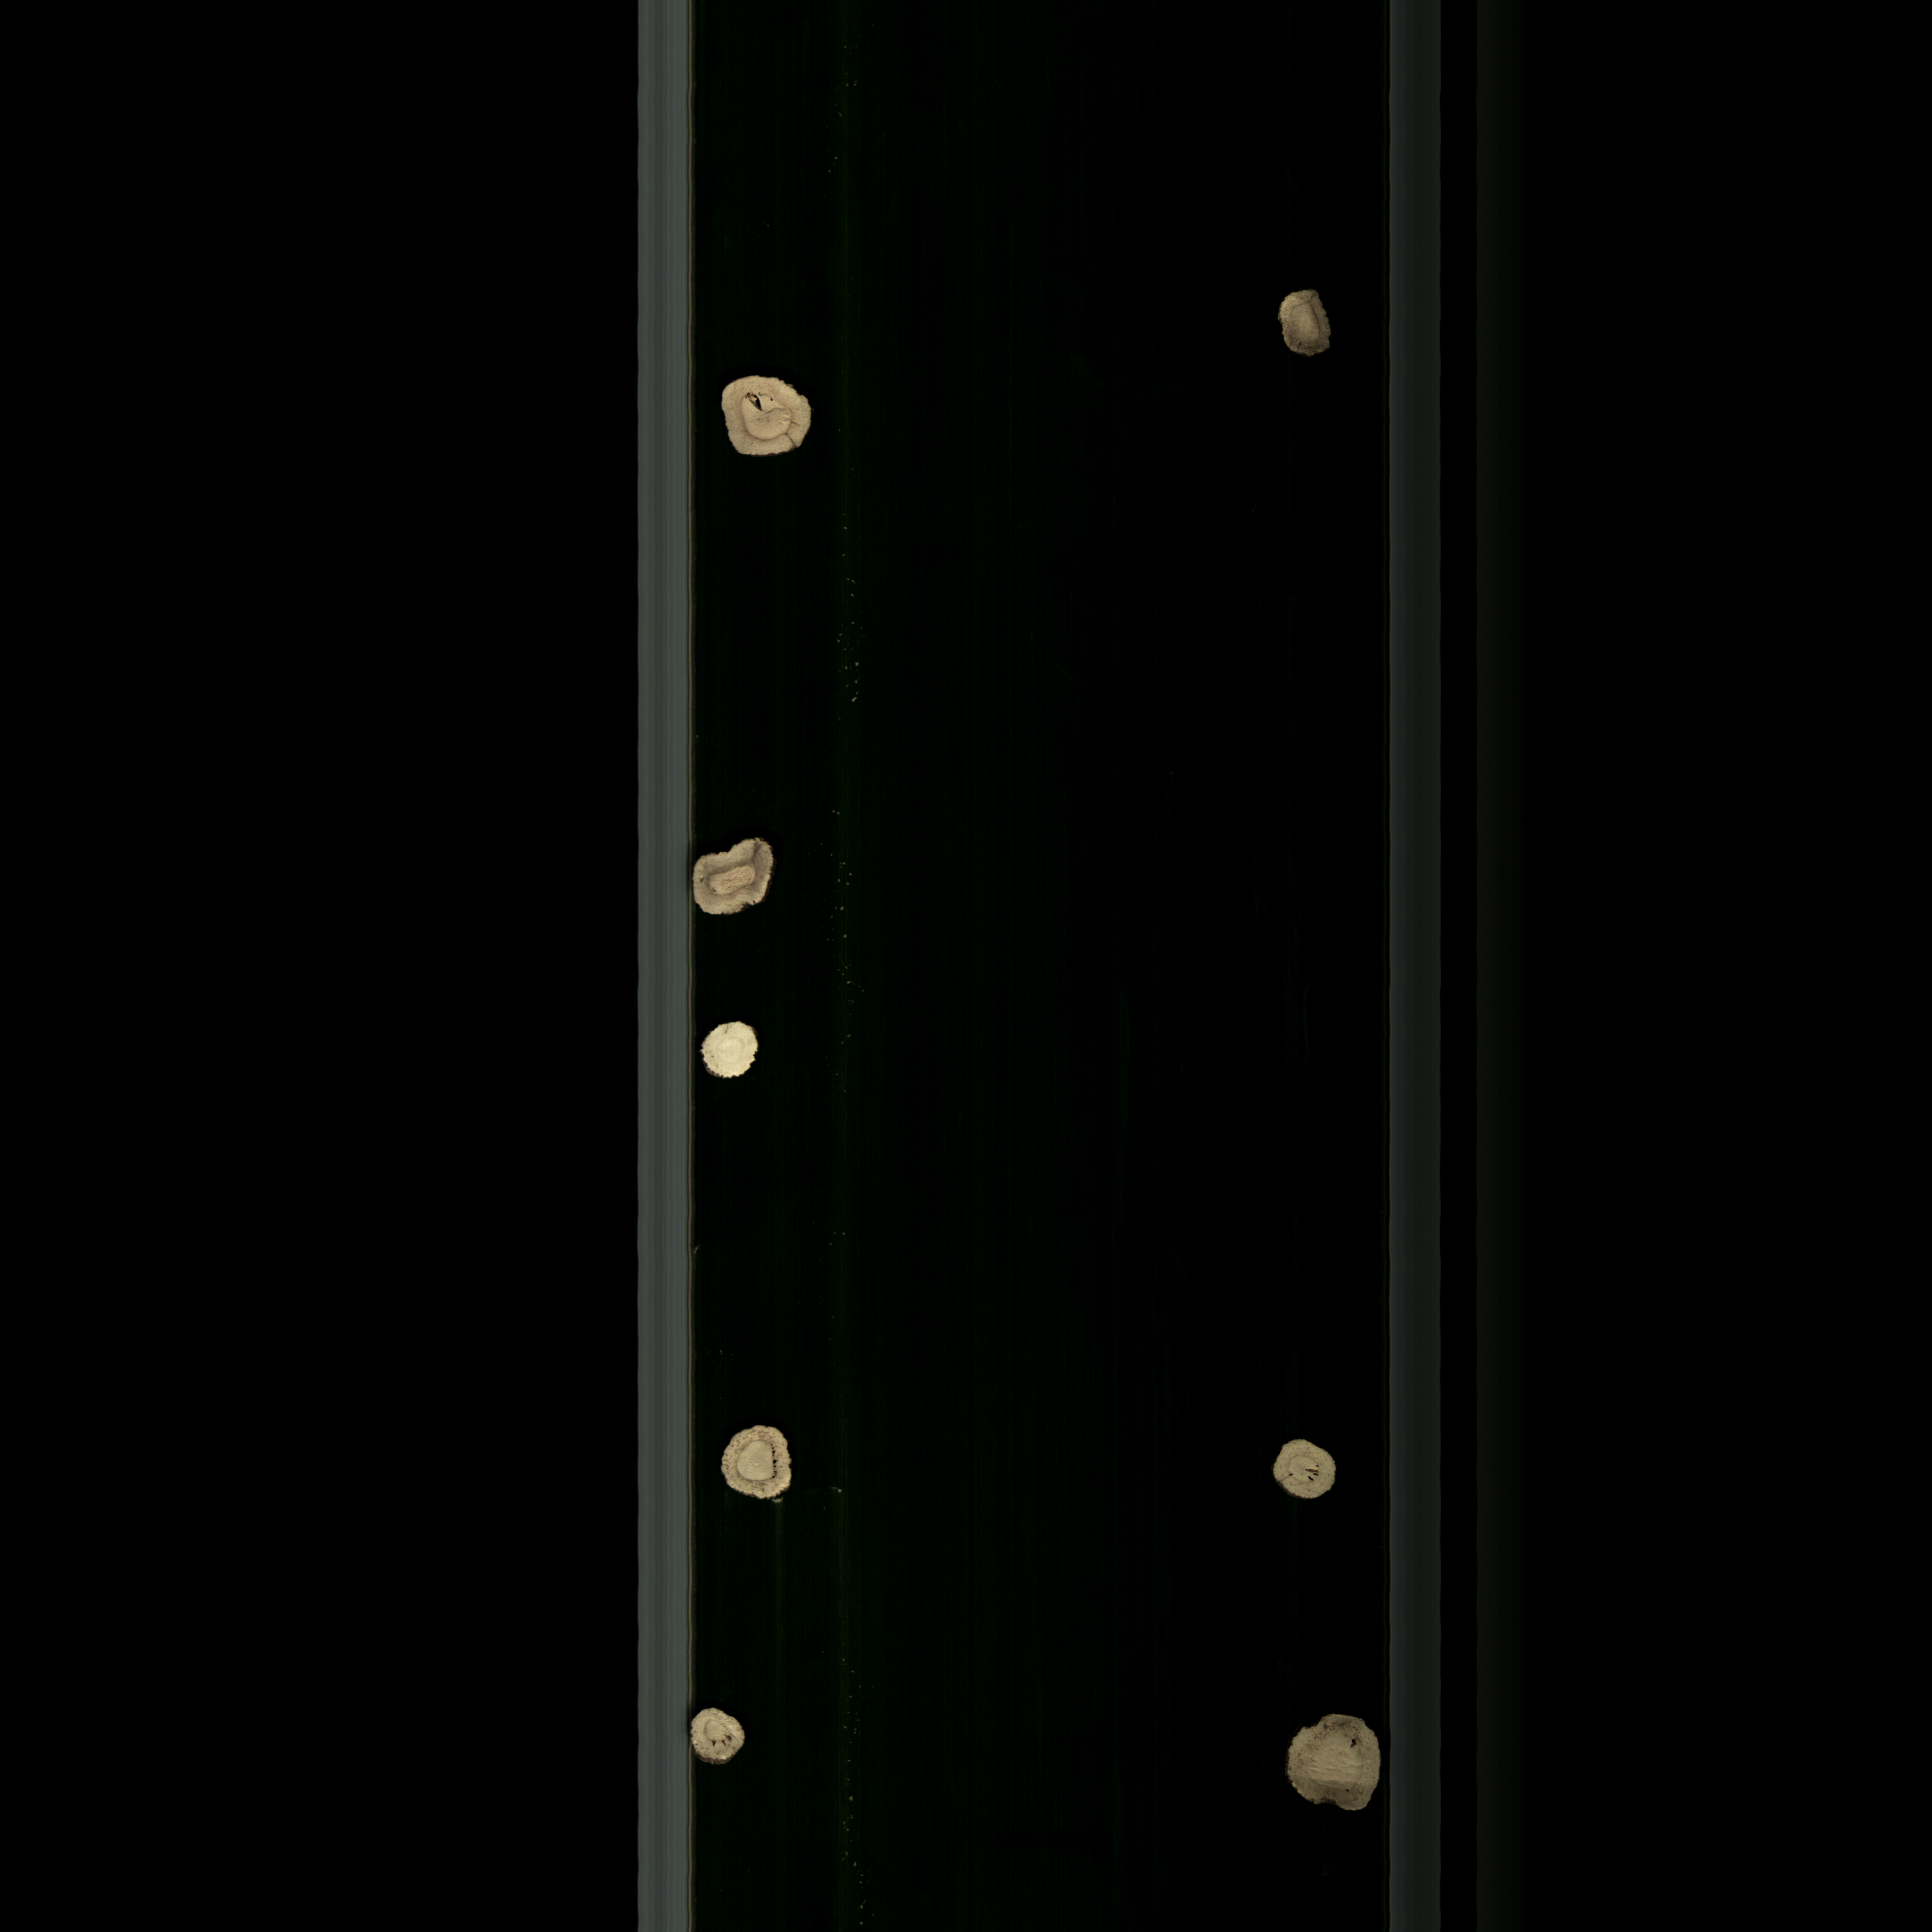hole: (701, 370, 828, 464), (1251, 1430, 1353, 1502), (681, 1700, 764, 1771)
moldy: (1267, 1695, 1385, 1838), (681, 828, 782, 936), (715, 1419, 809, 1507), (1265, 281, 1339, 372)
